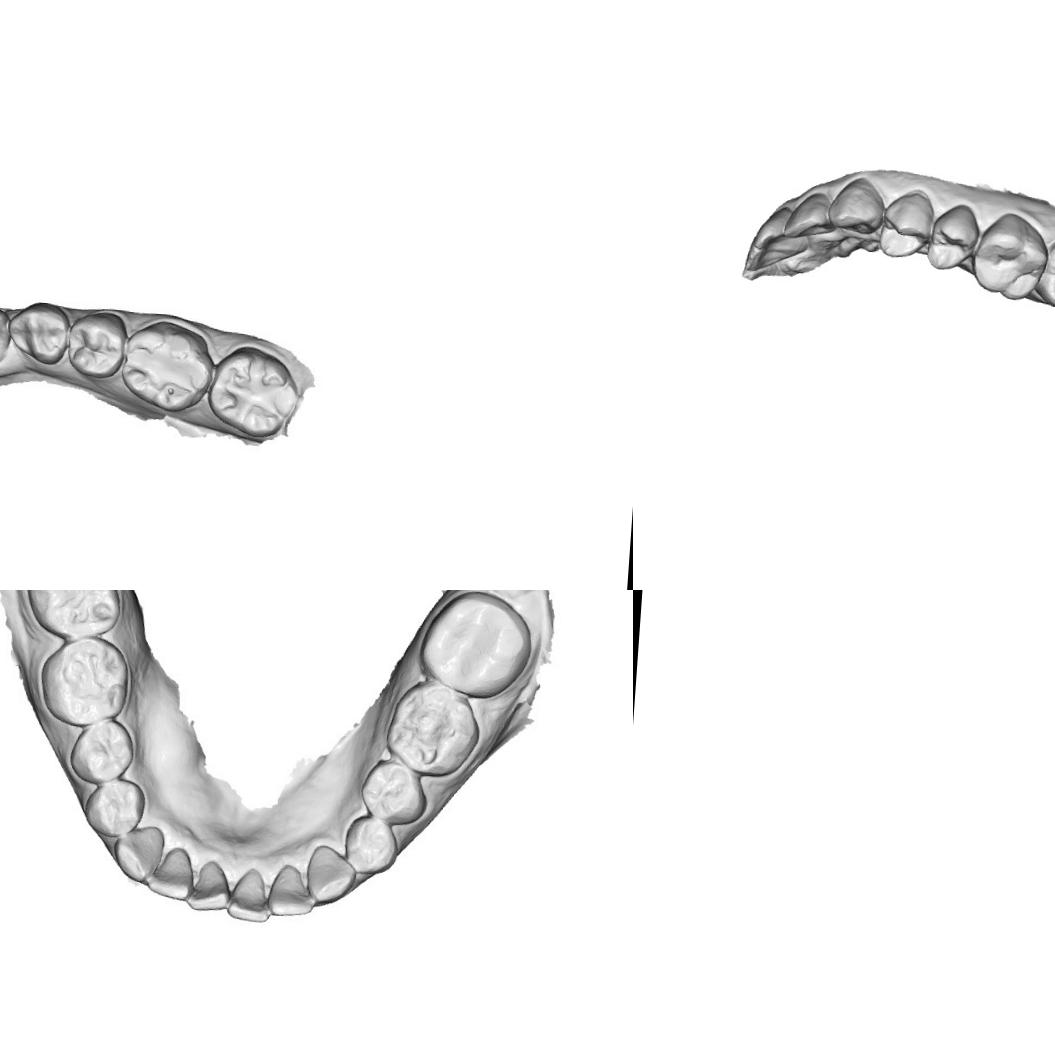canine: (826, 172, 888, 236), (112, 822, 166, 879), (304, 843, 355, 902), (0, 299, 14, 366)
incisor: (781, 186, 837, 242), (222, 859, 268, 921), (150, 846, 198, 900), (188, 854, 232, 911), (265, 860, 310, 915), (737, 242, 794, 284), (748, 204, 796, 252)
molar: (419, 590, 530, 698), (382, 677, 484, 779), (42, 624, 132, 728), (120, 318, 213, 414), (207, 341, 295, 438), (969, 210, 1050, 304), (20, 590, 124, 641), (1039, 226, 1055, 314)
premolar: (357, 758, 427, 834), (68, 306, 130, 384), (68, 718, 135, 784), (877, 186, 935, 262), (926, 199, 984, 273), (5, 300, 72, 364), (82, 775, 150, 838), (343, 816, 402, 878)
